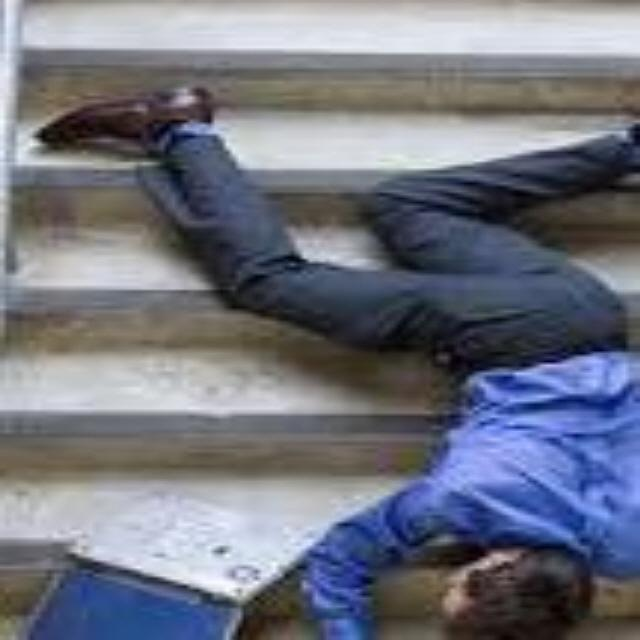Fall: (40, 91, 640, 640)
